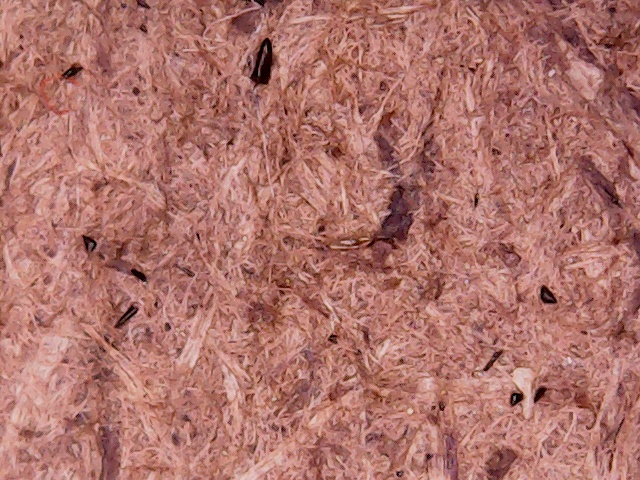full: (245, 37, 283, 91)
